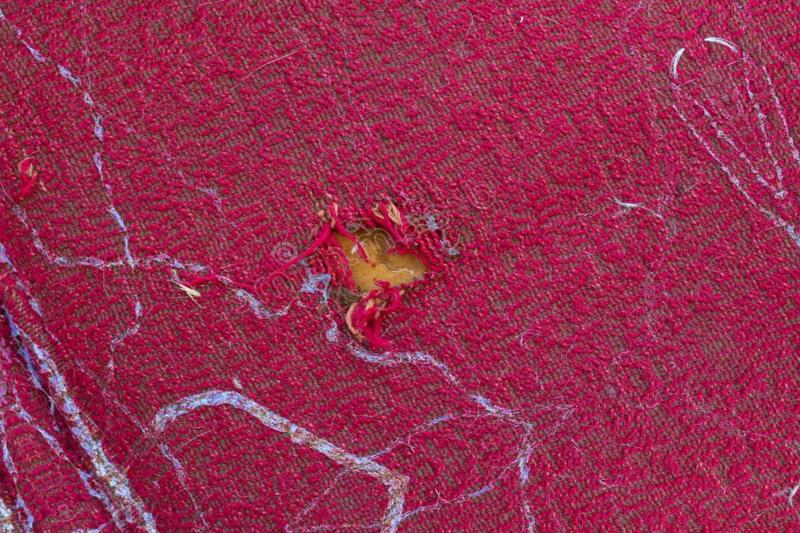hole: (323, 210, 453, 329)
